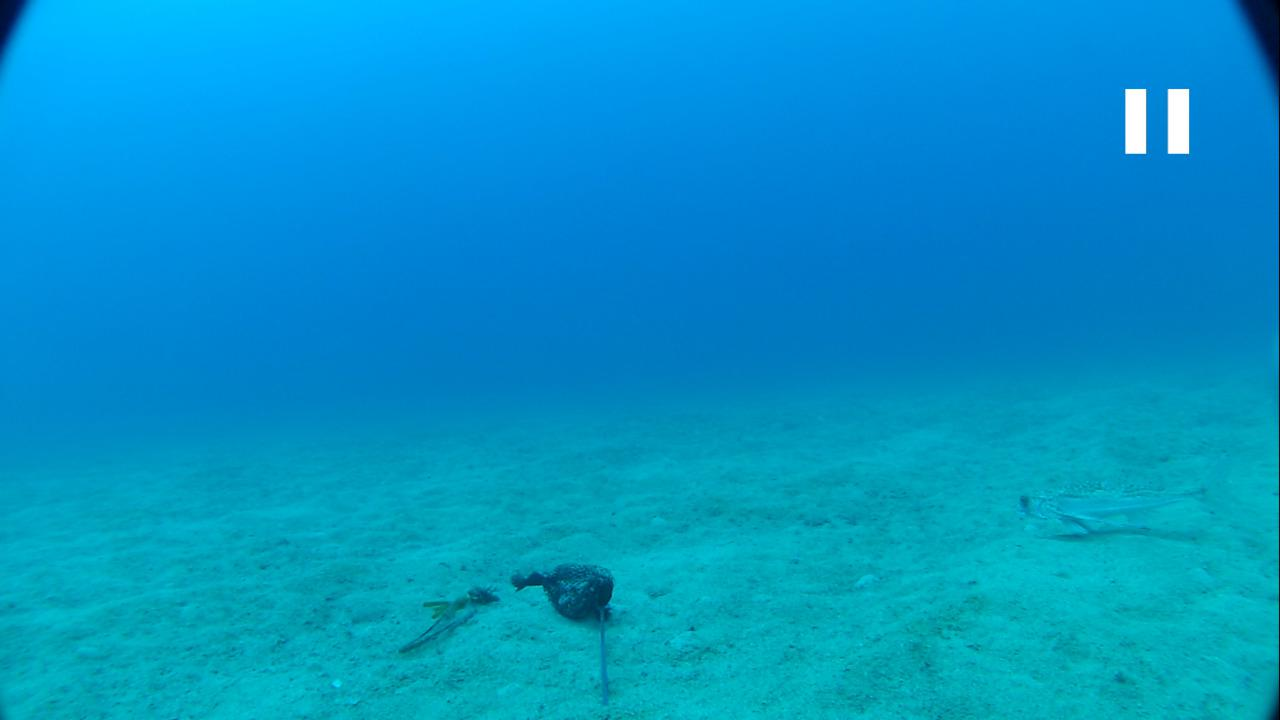dactylopterus: (993, 460, 1238, 543)
